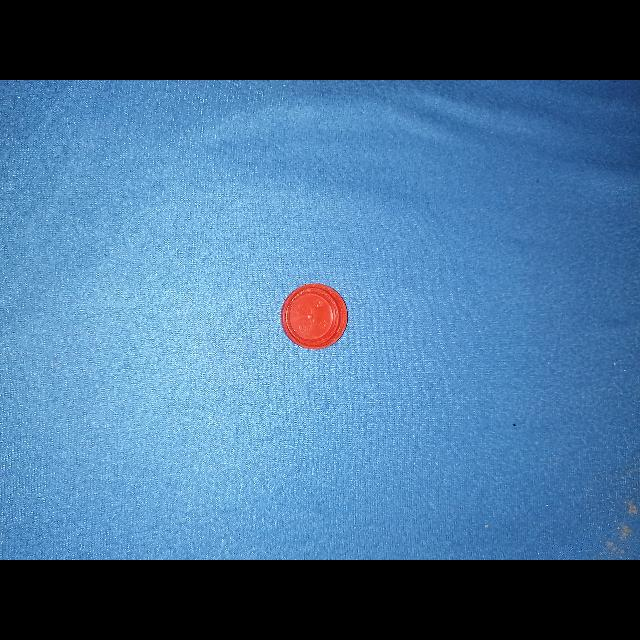plastic_bottle_cap: (283, 283, 347, 349)
